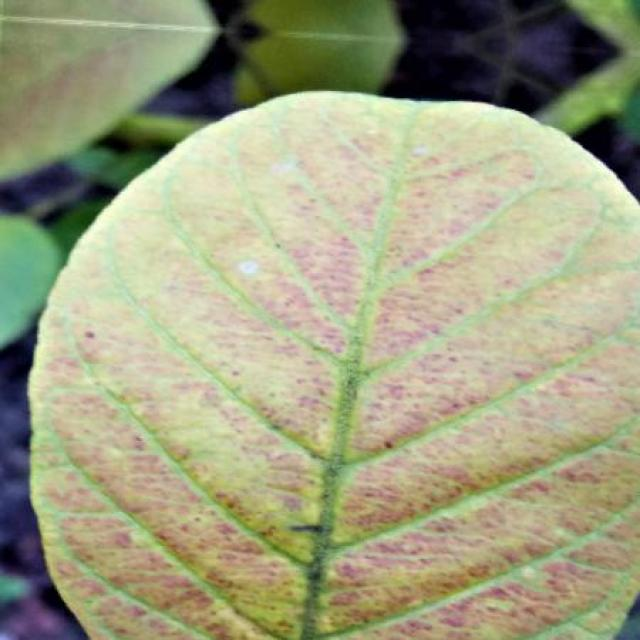Red Rust: (30, 92, 640, 640)
